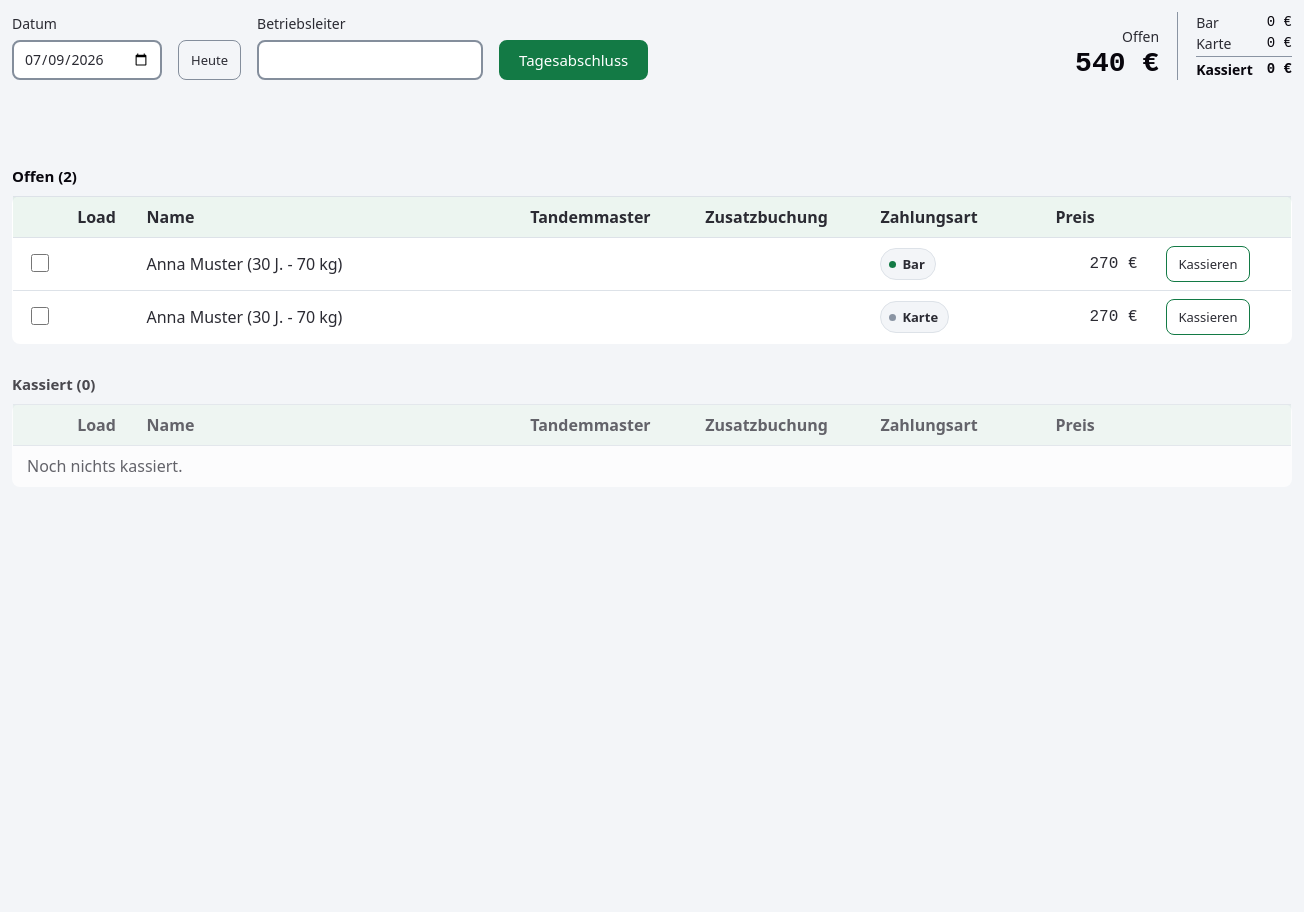
Test: List › Export-Warnung › warns instead of exporting while tandems are still open
Click the button "Tagesabschluss" at (574, 60), box [499,40,648,80]
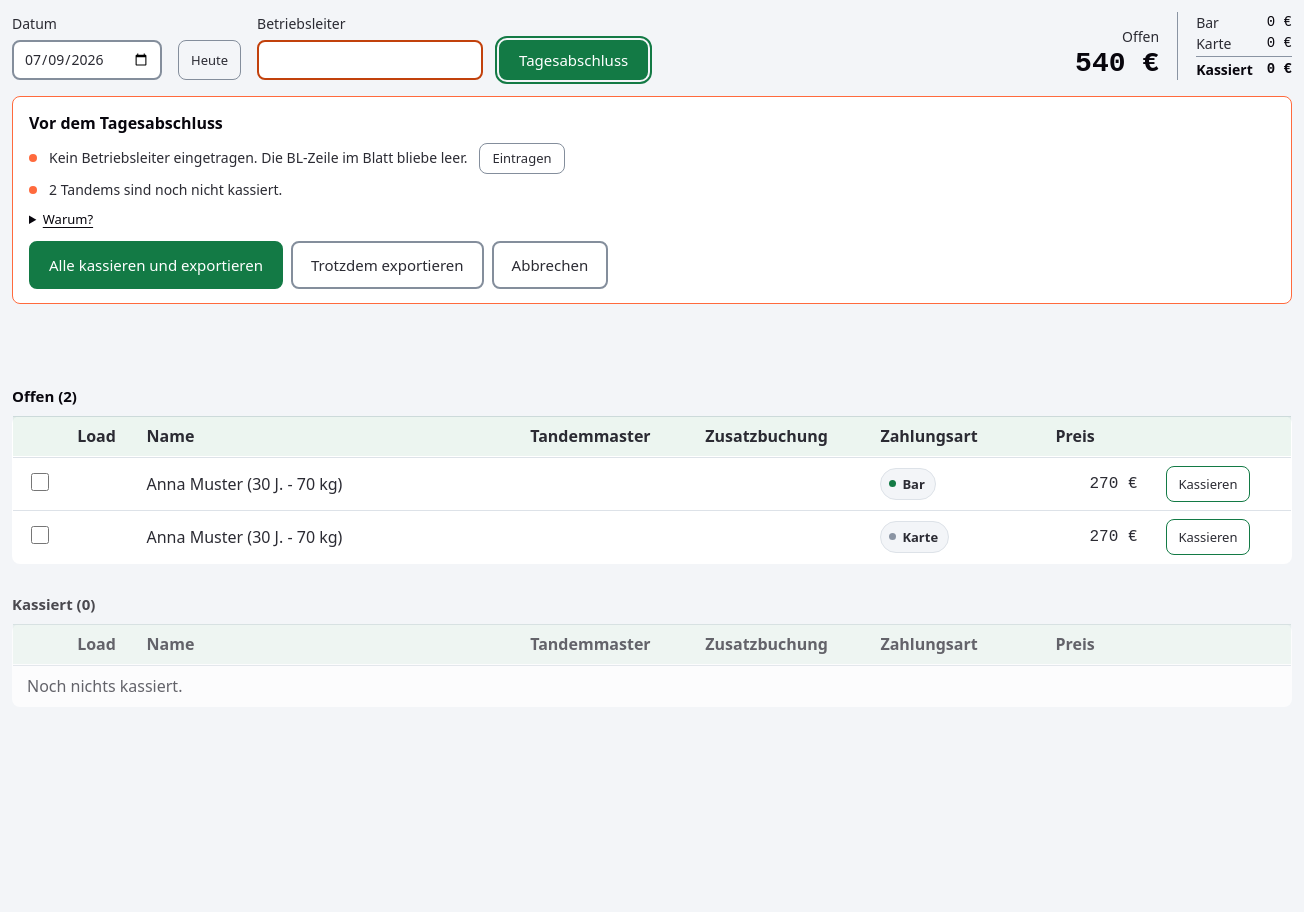
Now the text "2 Tandems sind noch nicht kassiert." is shown, box [49,180,289,200]
